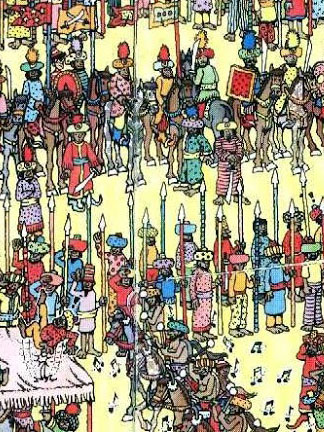waldo: (51, 44, 66, 70)
